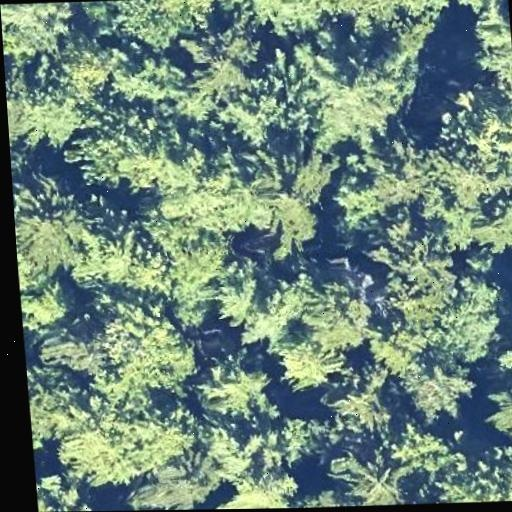tree-top: (152, 140, 290, 245), (49, 382, 169, 484), (326, 129, 434, 236), (417, 89, 512, 204), (70, 101, 167, 210), (223, 52, 319, 161), (157, 210, 237, 337), (84, 209, 182, 307), (231, 0, 454, 43), (109, 297, 204, 392), (304, 44, 398, 134), (73, 0, 229, 54), (377, 232, 458, 329), (4, 66, 90, 150), (217, 261, 296, 350), (288, 276, 377, 355), (35, 306, 117, 388), (126, 450, 236, 511), (442, 266, 506, 364), (13, 187, 88, 270), (238, 408, 336, 471), (25, 354, 84, 457), (190, 345, 268, 419), (403, 350, 476, 421), (274, 328, 344, 397), (180, 26, 253, 91), (321, 364, 390, 426), (19, 271, 81, 338), (432, 454, 512, 503), (106, 44, 170, 102), (393, 416, 458, 473), (464, 9, 512, 86), (0, 2, 64, 57), (57, 34, 115, 90), (219, 468, 298, 509), (350, 452, 407, 505), (35, 469, 94, 512), (304, 478, 388, 507), (470, 195, 512, 250), (481, 375, 512, 448), (494, 307, 512, 383), (449, 0, 506, 21)
